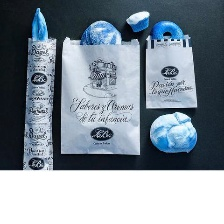snack: (55, 33, 143, 157), (17, 32, 59, 169), (142, 31, 200, 112)
